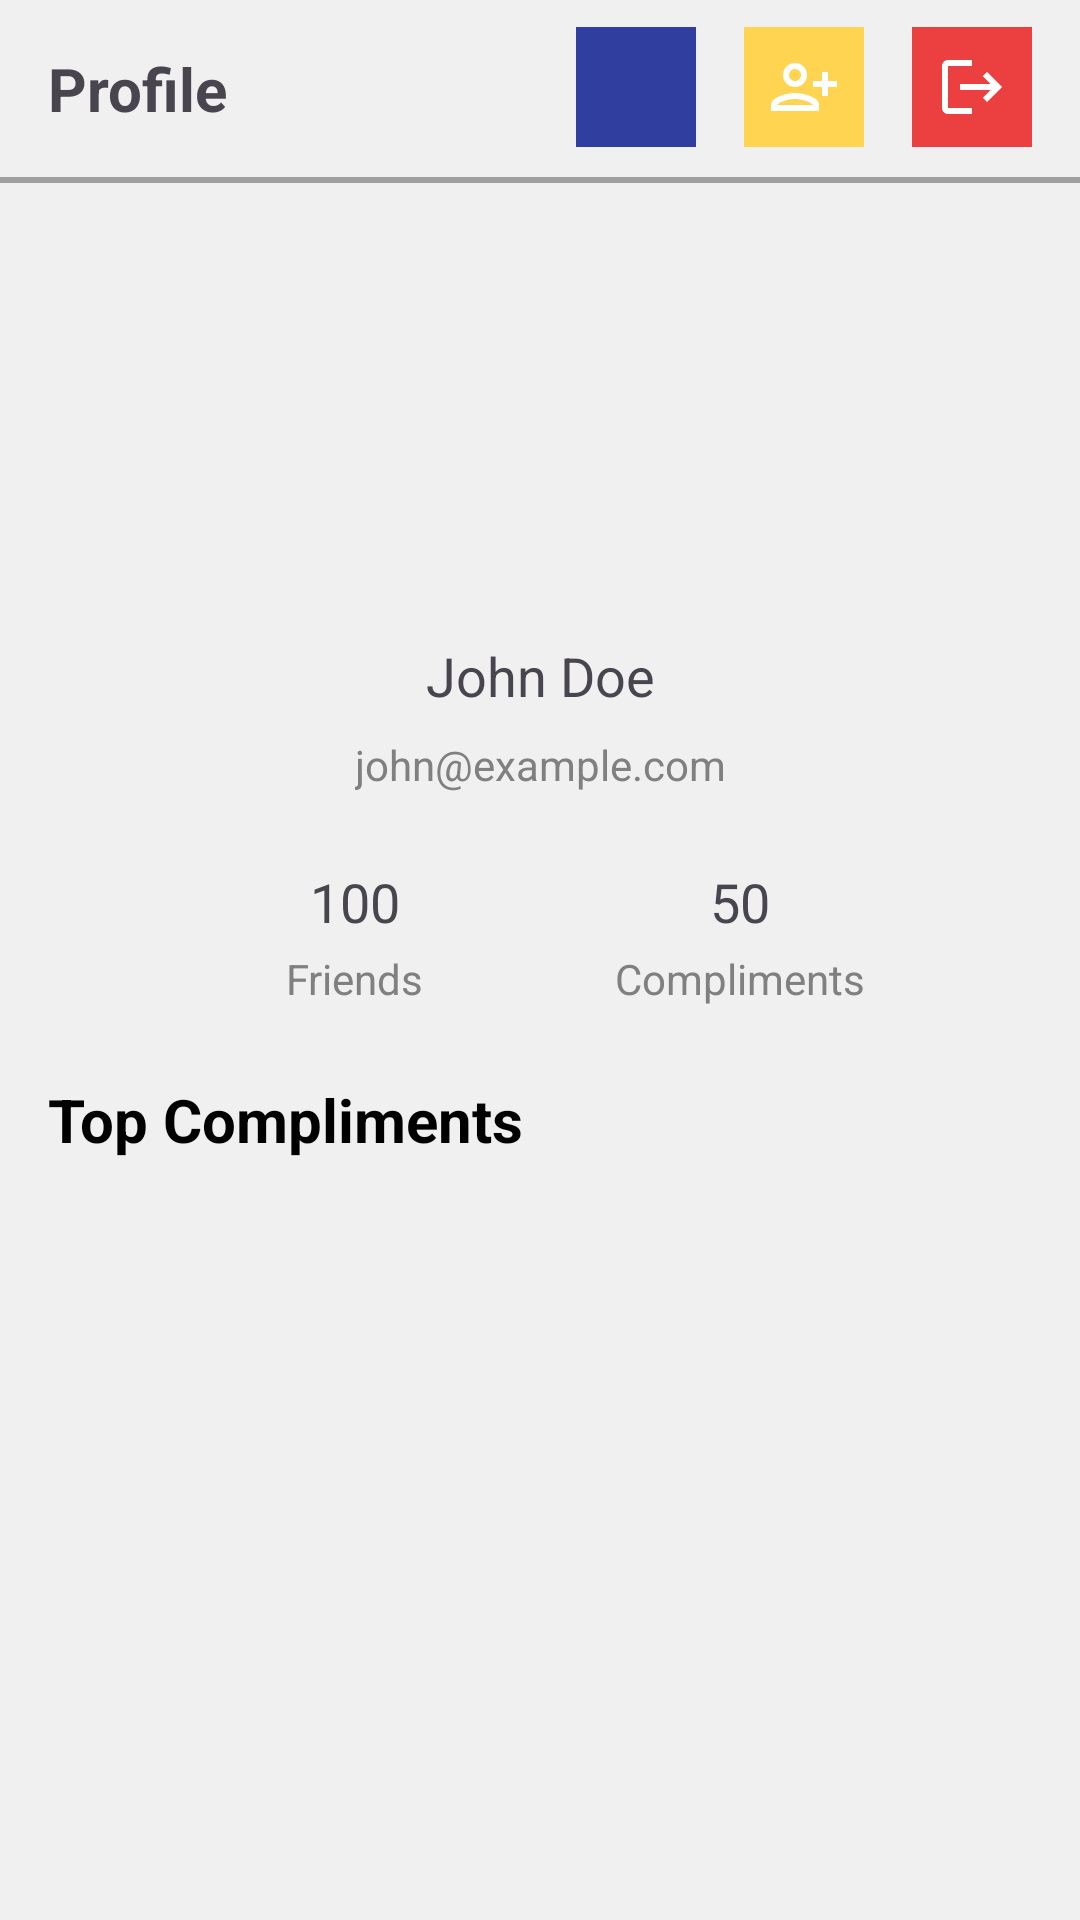

Where icons sit on this 1080px x 1920px app screen, as (x1, y1, x2, y2):
add friend: (744, 27, 864, 147)
